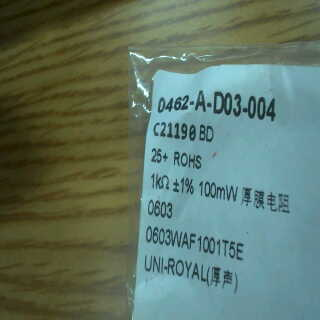1kR: (149, 172, 171, 193)
